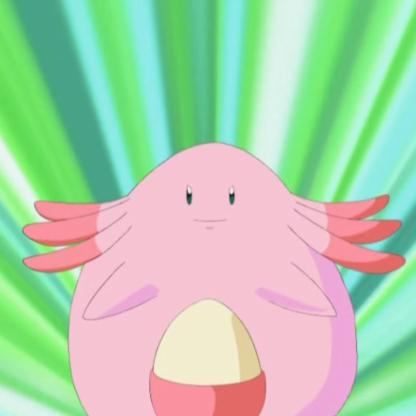Chansey: (28, 132, 408, 416)
